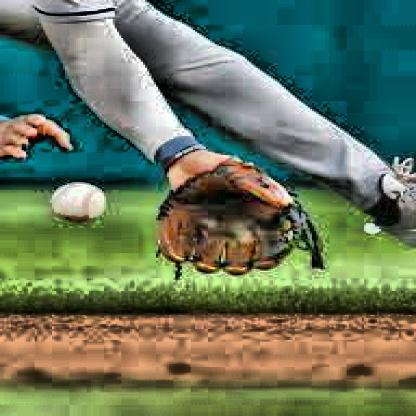baseball: (52, 181, 110, 226)
